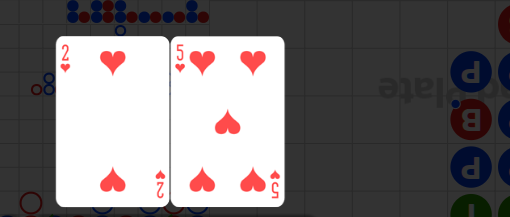2H: (59, 44, 73, 75)
5H: (269, 168, 281, 200)
